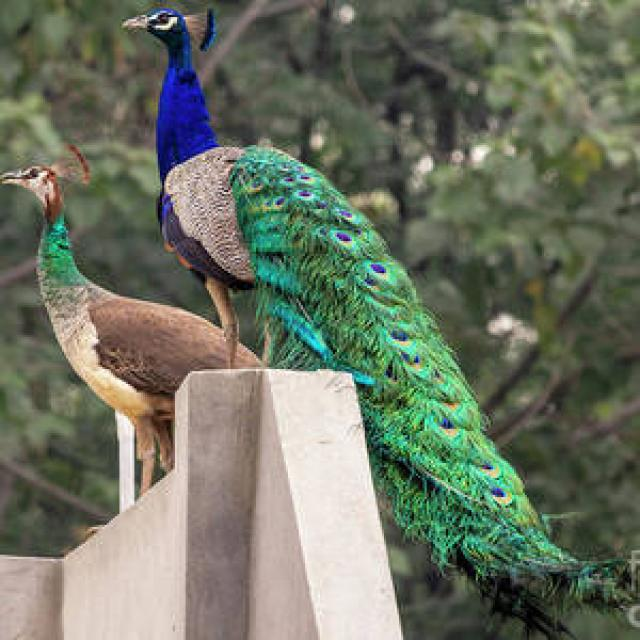peacock: (94, 0, 595, 589), (0, 133, 289, 498)
